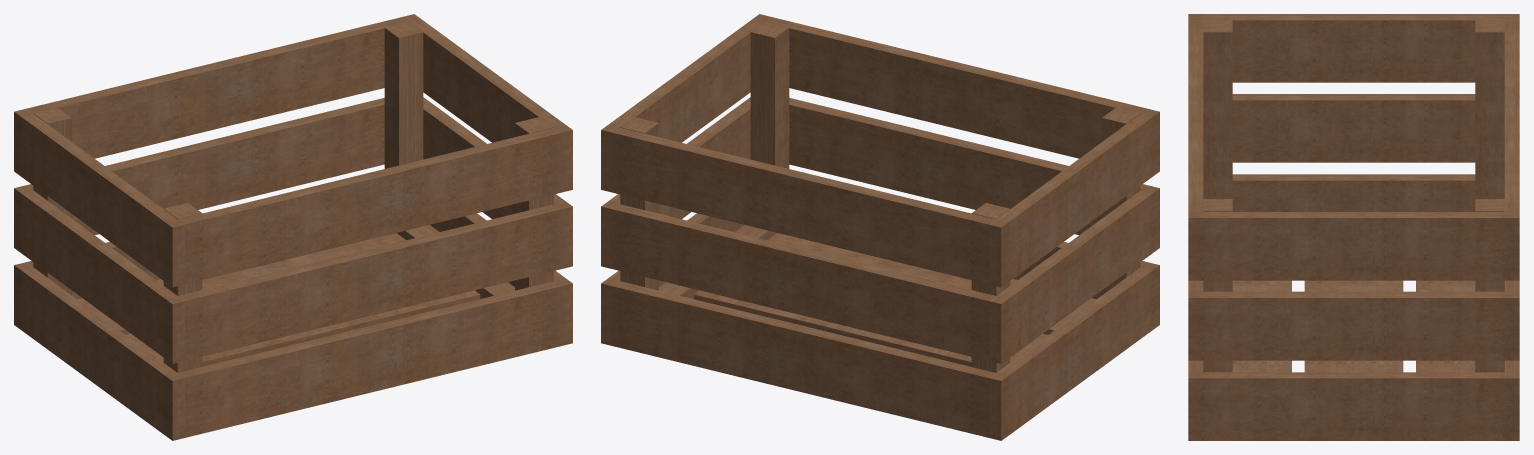
The picture shows the model from 3 angles, left to right: view 1: azimuth 30°, elevation 25°; view 2: azimuth 150°, elevation 25°; view 3: azimuth 270°, elevation 25°; orthographic projection. The views are drawn at different scales.
Parts seen in each view (by area): view 1: Куб; view 2: Куб; view 3: Куб.
Part boxes in pixels (x1=…): Куб: x1=14, y1=14, x2=572, y2=440; Куб: x1=601, y1=14, x2=1159, y2=440; Куб: x1=1188, y1=14, x2=1519, y2=440.
Size of the model in its own units: 49 by 25 by 33.6.
1 material, 1 textured.
